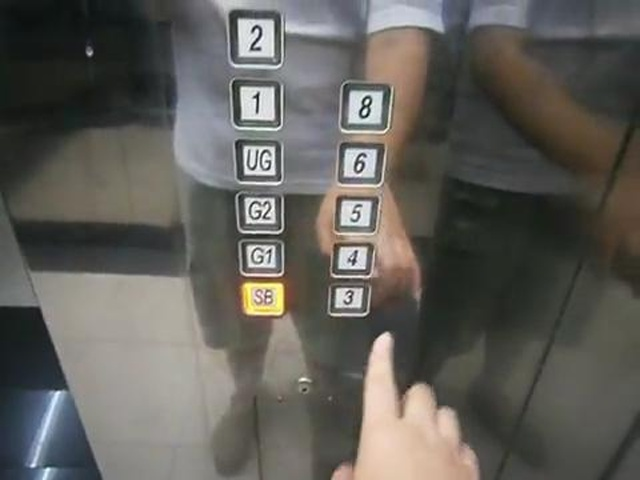1: (229, 75, 285, 132)
2: (227, 6, 286, 71)
3: (327, 278, 372, 319)
4: (331, 239, 375, 281)
5: (331, 190, 382, 236)
6: (334, 137, 388, 187)
8: (336, 79, 395, 136)
G1: (237, 238, 285, 278)
G2: (234, 189, 285, 234)
SB: (241, 280, 286, 317)
UG: (233, 138, 286, 186)
